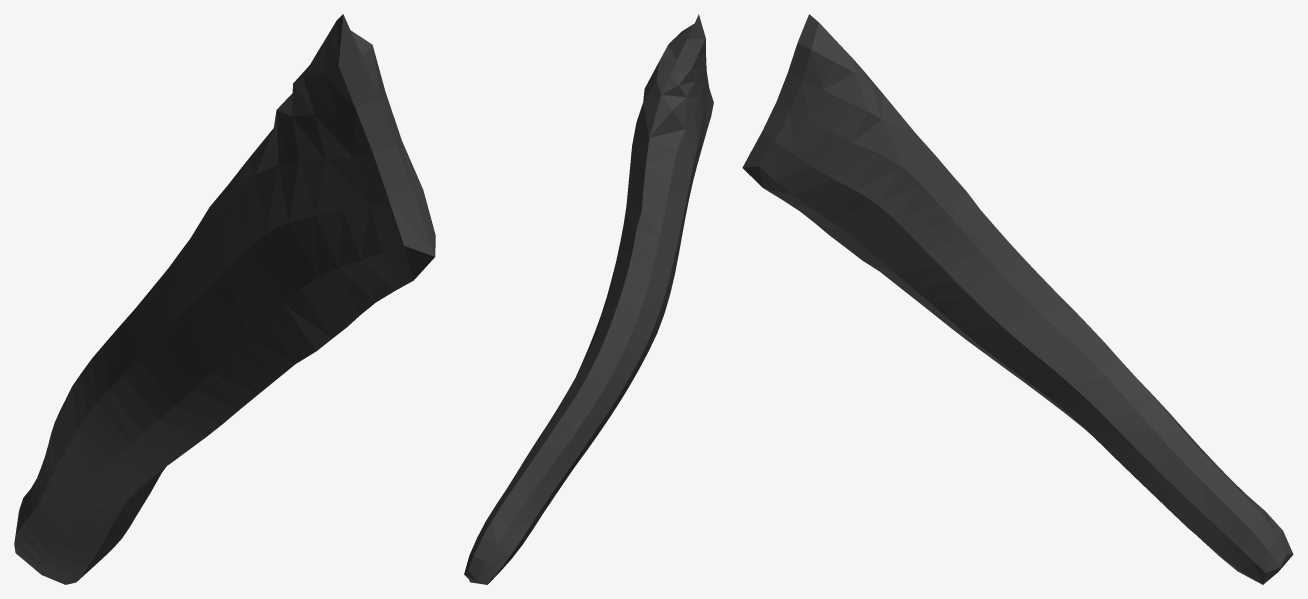
Rendered from zygoauricularis.glb.
The picture shows the model from 3 angles, left to right: view 1: azimuth 30°, elevation 25°; view 2: azimuth 150°, elevation 25°; view 3: azimuth 270°, elevation 25°; orthographic projection. The views are drawn at different scales.
Visible parts, largest first — view 1: zygoauricularis; view 2: zygoauricularis; view 3: zygoauricularis.
Boxes of the visible parts, box(x1,y1,x2,y2) form: zygoauricularis: box(14, 14, 435, 584); zygoauricularis: box(464, 14, 713, 584); zygoauricularis: box(742, 14, 1293, 584).
Size of the model in its own units: 0.0723 by 0.3685 by 0.3366.
1 material, 1 textured.
